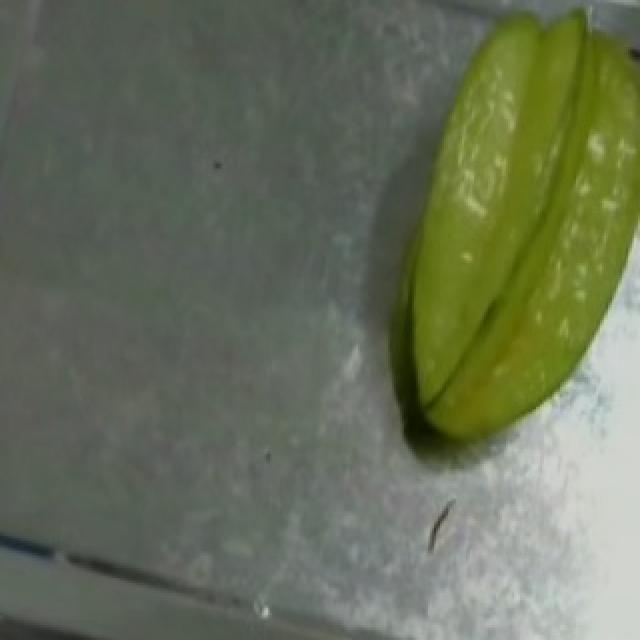fruit: (422, 0, 640, 419)
